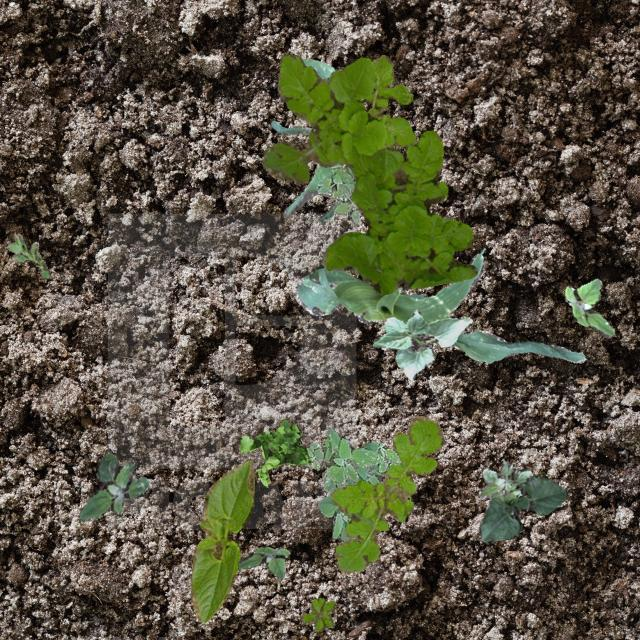crop: (292, 251, 584, 361), (271, 58, 353, 222), (190, 458, 253, 622), (372, 310, 472, 380), (478, 474, 566, 544)
weed: (263, 52, 477, 294), (330, 416, 442, 572), (302, 428, 400, 490), (238, 418, 310, 486), (318, 464, 382, 540), (364, 54, 416, 146), (78, 454, 148, 520), (564, 278, 614, 336), (316, 162, 361, 226), (478, 458, 532, 510), (5, 232, 48, 276), (236, 544, 288, 578), (300, 596, 334, 630)
